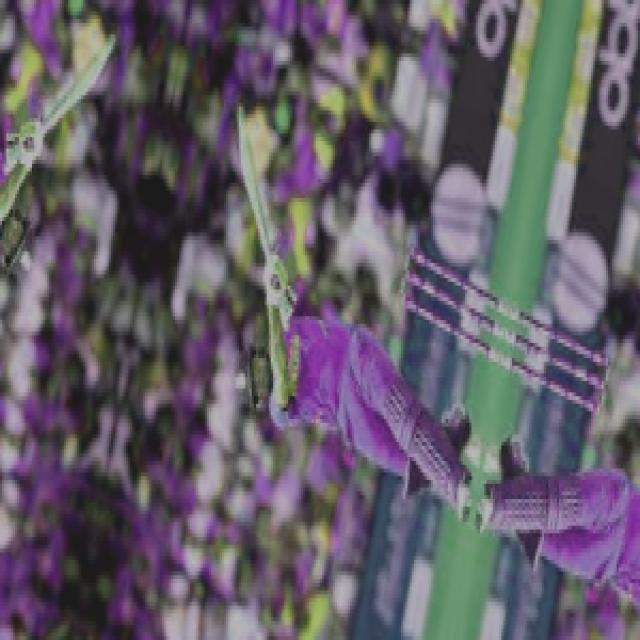toe: (237, 98, 248, 150)
